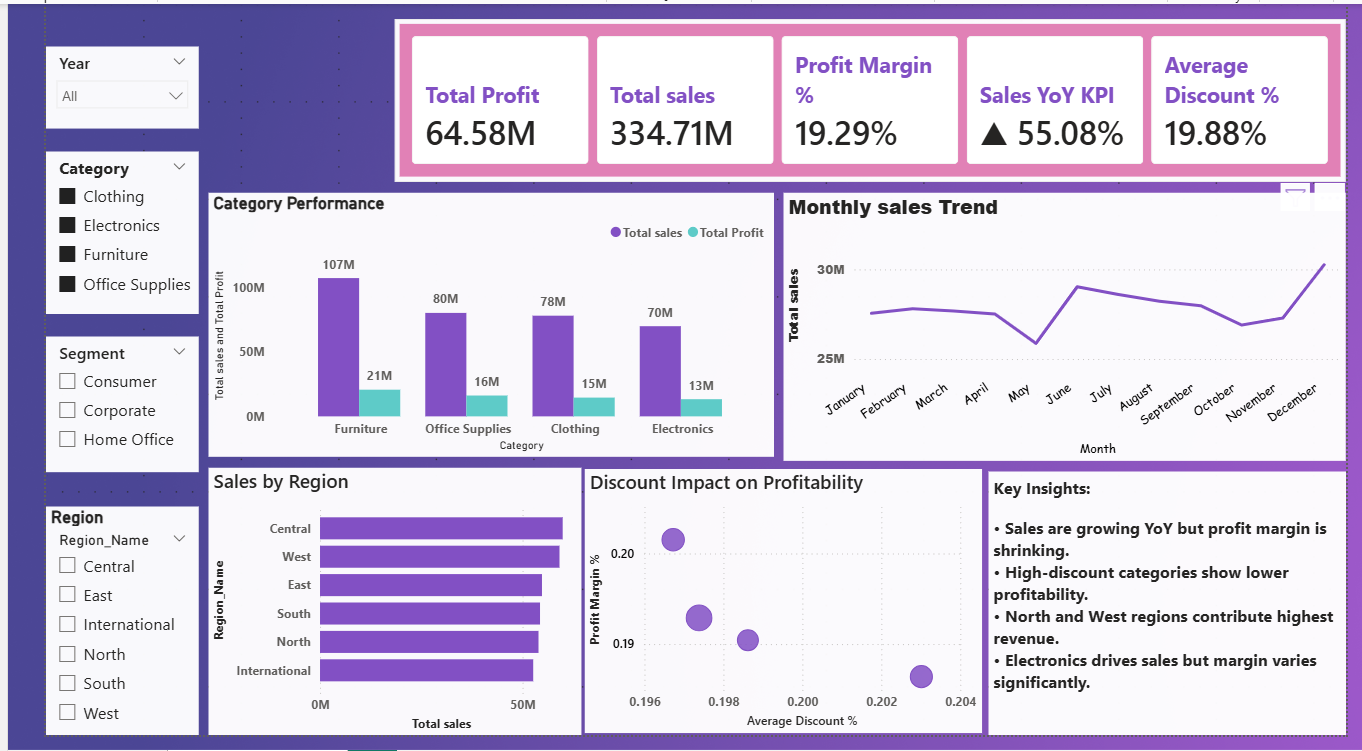

What the dashboard file says about the page in this screenshot:
{"tool":"powerbi","page":{"name":"Executive overview","canvas":[1280,720],"ordinal":0},"visuals":[{"type":"cardVisual","fields":{"Data":["calculations.Total Profit","calculations.Total sales","calculations.Profit Margin %","Customer.Sales YoY KPI","calculations.Average Discount %"]},"box":[343.7,15.3,936.3,160],"z":0},{"type":"lineChart","title":"Monthly sales Trend","fields":{"Category":["Date table.Date.Variation.Date Hierarchy.Month","Date table.Date.Variation.Date Hierarchy.Day"],"Y":["calculations.Total sales"]},"box":[726.3,186.4,553.7,264.3],"z":1},{"type":"clusteredBarChart","title":"Sales by Region","fields":{"Category":["Region.Region_Name"],"Y":["calculations.Total sales"]},"box":[160,456.3,367.3,264.3],"z":2},{"type":"clusteredColumnChart","title":"Category Performance","fields":{"Category":["Product.Category"],"Y":["calculations.Total sales","calculations.Total Profit"]},"box":[160,186.4,556.5,260.2],"z":3},{"type":"scatterChart","title":"Discount Impact on Profitability","fields":{"X":["calculations.Average Discount %"],"Y":["calculations.Profit Margin %"],"Size":["calculations.Total sales"],"Category":["Product.Category"]},"box":[530.1,457.7,391,260.2],"z":4},{"type":"textbox","box":[928,460.5,352,260.2],"z":5},{"type":"slicer","fields":{"Values":["Product.Category"]},"box":[0,144.7,150.3,160],"z":6},{"type":"slicer","title":"Region","fields":{"Values":["Region.Region_Name"]},"box":[0,495.3,150.3,225.4],"z":7},{"type":"slicer","fields":{"Values":["Date table.Year"]},"box":[0,41.7,150.3,80.7],"z":8},{"type":"slicer","fields":{"Values":["Customer.Segment"]},"box":[0,327,150.3,133.6],"z":9}]}

Visuals, with their boxes in screenshot pixels (x1, y1, x2, y2), scaled from the page's 1280x720 canvas onto the 1362x751 screenshot:
cardVisual - calculations.Total Profit x calculations.Total sales: BBox(366, 16, 1361, 183)
"Monthly sales Trend" lineChart: BBox(773, 194, 1361, 470)
"Sales by Region" clusteredBarChart: BBox(170, 476, 561, 750)
"Category Performance" clusteredColumnChart: BBox(170, 194, 762, 466)
"Discount Impact on Profitability" scatterChart: BBox(564, 477, 980, 749)
textbox: BBox(987, 480, 1361, 750)
slicer - Product.Category: BBox(0, 151, 160, 318)
"Region" slicer: BBox(0, 517, 160, 750)
slicer - Date table.Year: BBox(0, 43, 160, 128)
slicer - Customer.Segment: BBox(0, 341, 160, 480)
